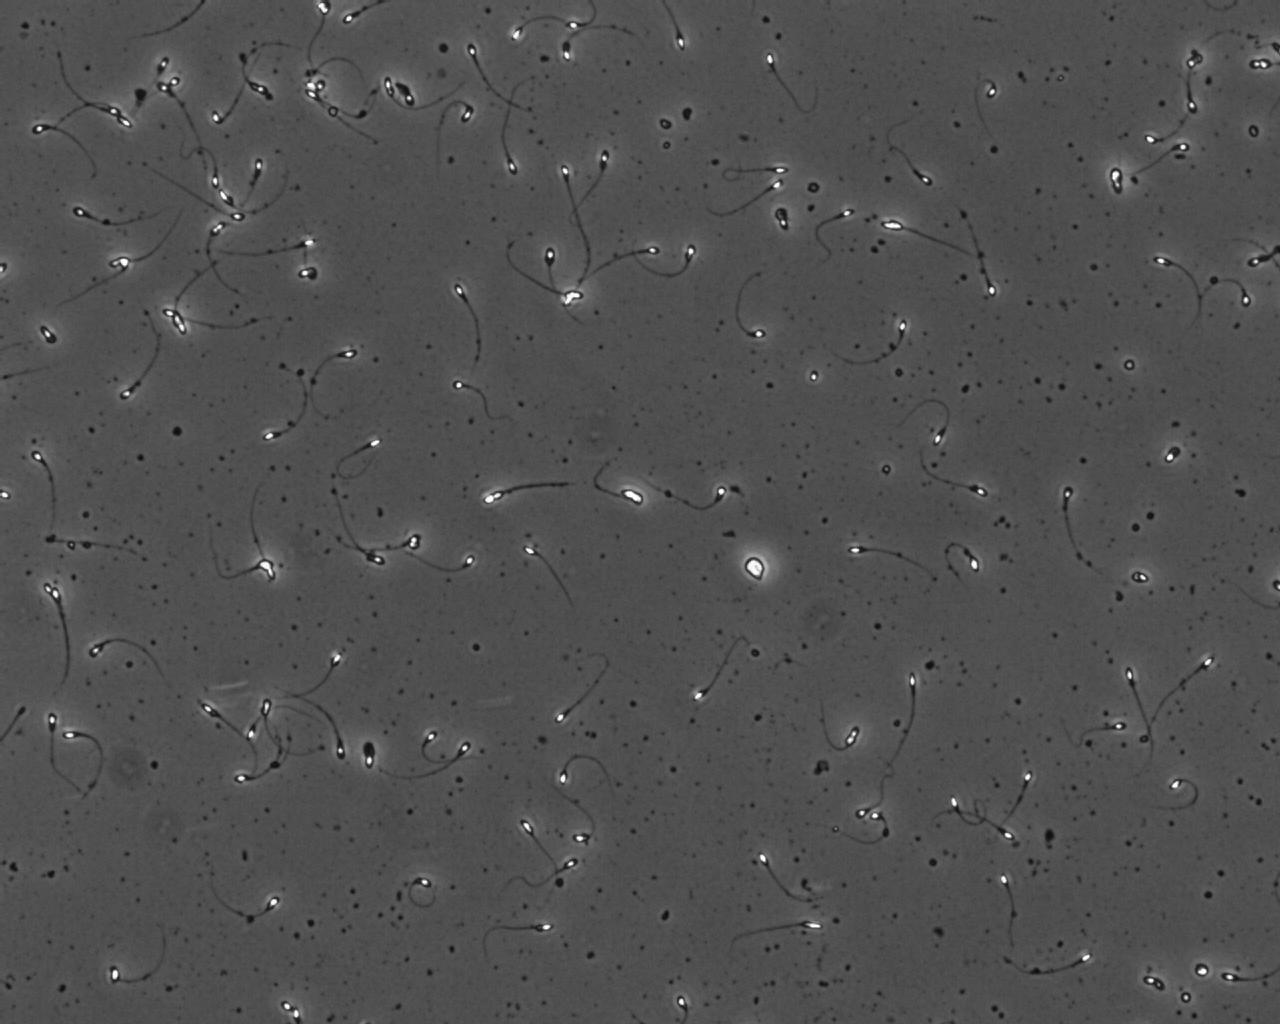cell: (740, 552, 769, 584)
